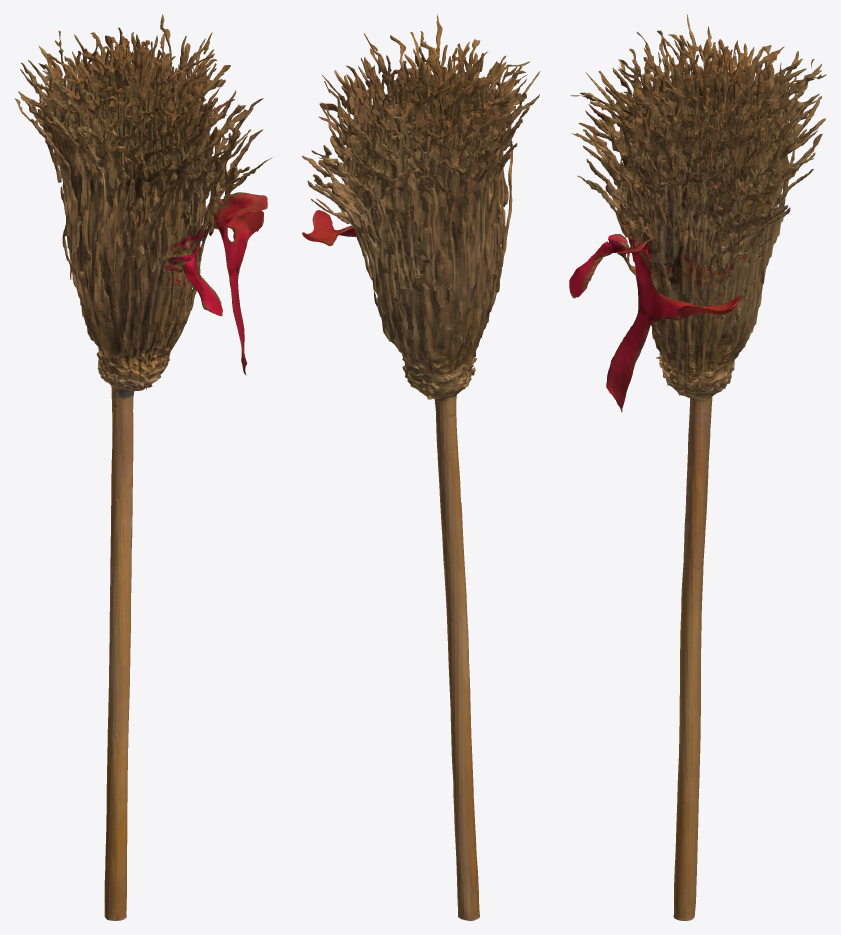
Rendered from una_escoba_antigua__0403171243_texture.fbx.
3 views of the same model, side by side, from view 1: azimuth 30°, elevation 25°; view 2: azimuth 150°, elevation 25°; view 3: azimuth 270°, elevation 25° (orthographic). The views are drawn at different scales.
Parts seen in each view (by area): view 1: temp; view 2: temp; view 3: temp.
Part boxes in pixels (x1,y1,x2,y2): temp: (14,14,272,920); temp: (302,14,540,920); temp: (569,14,826,920).
Bounding box in the file's own units: 51.94 × 199 × 52.48.
Materials: 1 (1 with a texture image).
